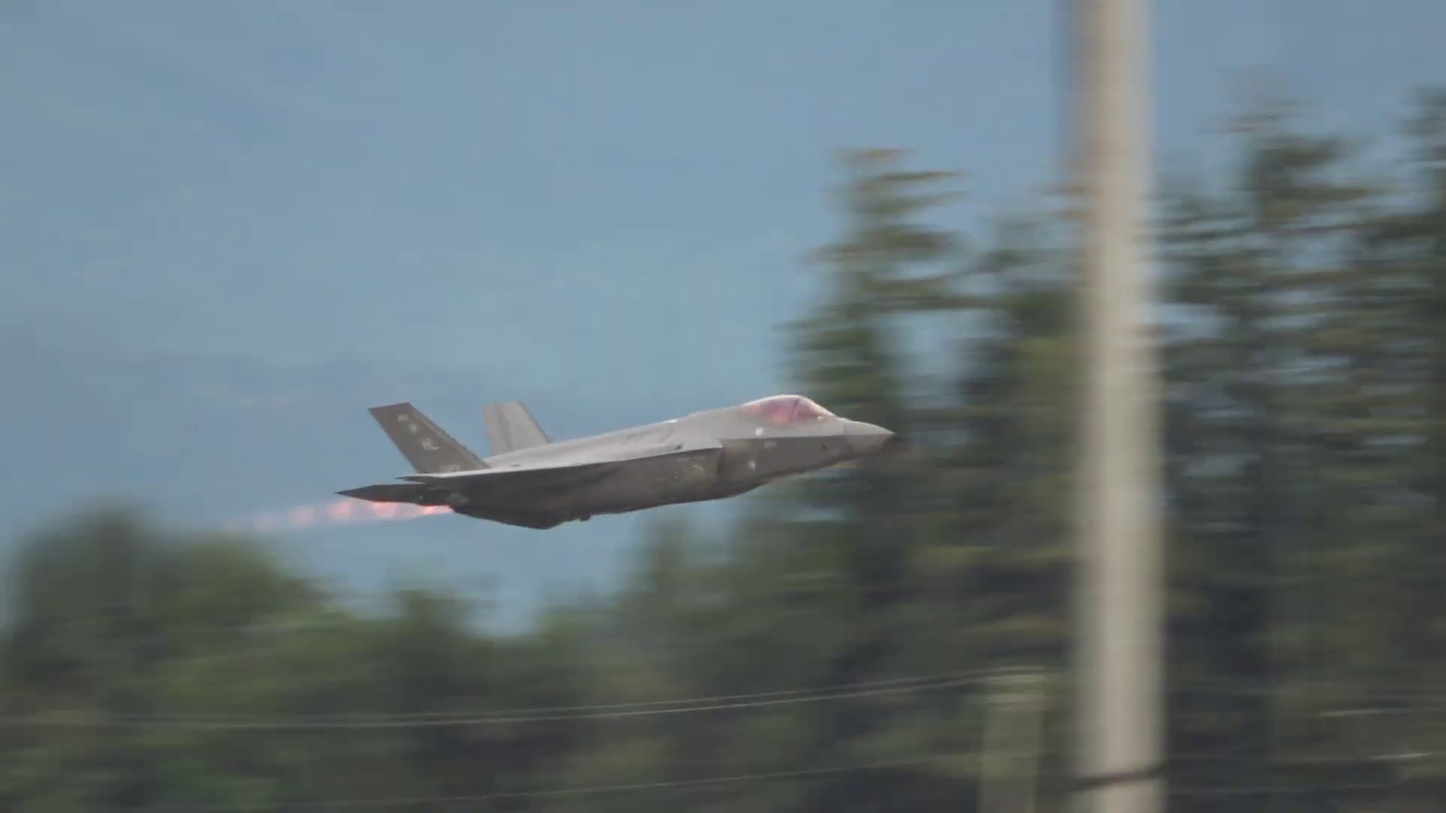F35: (330, 368, 918, 548)
